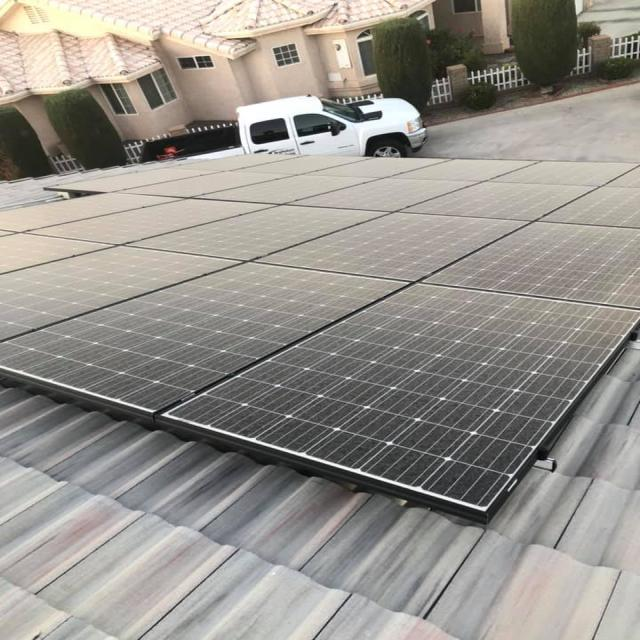dust-solar-panel: (0, 152, 640, 515)
